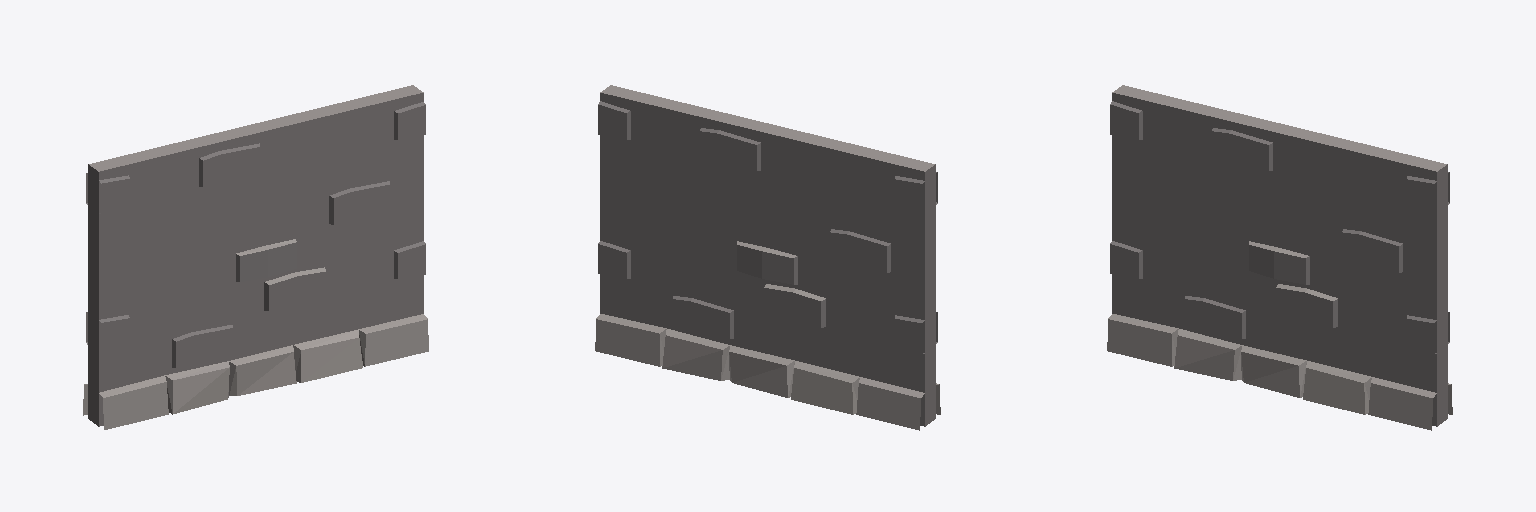
The picture shows the model from 3 angles: view 1: azimuth 30°, elevation 25°; view 2: azimuth 150°, elevation 25°; view 3: azimuth 330°, elevation 25°; orthographic projection.
Parts seen in each view (by area): view 1: dungeon_wall.001, dungeon_wall; view 2: dungeon_wall, dungeon_wall.001; view 3: dungeon_wall.001, dungeon_wall.
Boxes of the visible parts, x1,y1,x2,y2 form: dungeon_wall.001: [89, 86, 428, 429]; dungeon_wall: [83, 85, 421, 418]; dungeon_wall: [595, 92, 933, 430]; dungeon_wall.001: [602, 85, 940, 425]; dungeon_wall.001: [1107, 92, 1445, 430]; dungeon_wall: [1114, 85, 1452, 425].
Bounding box in the file's own units: 4 × 3 × 0.4766.
Materials: 1 (1 with a texture image).